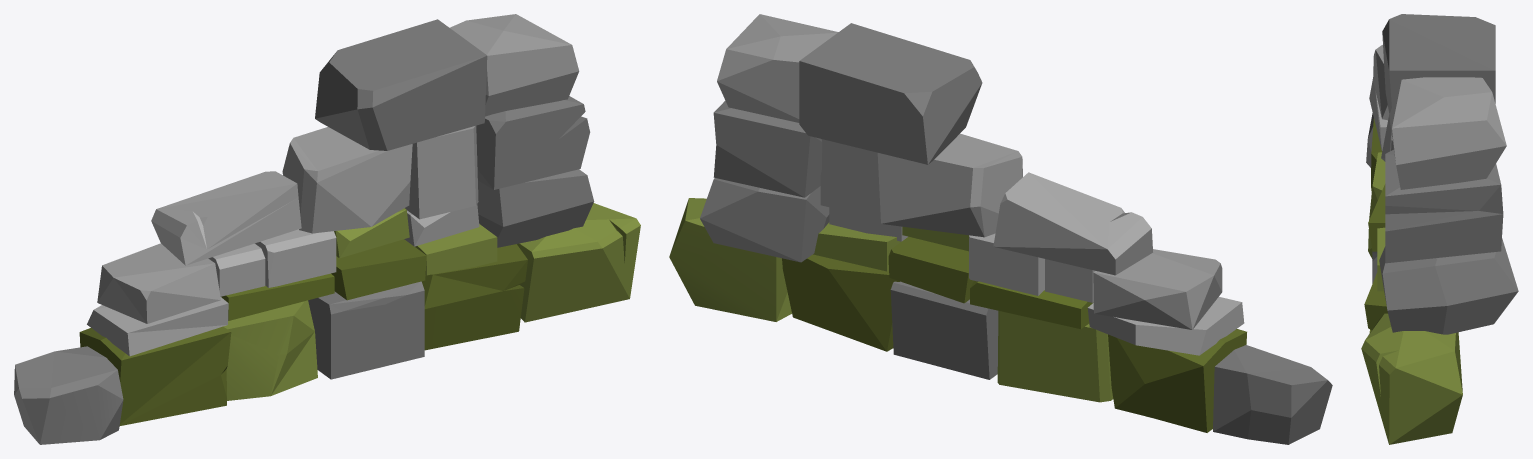
Rendered from EA03_Fence_Cobble_01a.fbx.
3 renders of one model, left to right at view 1: azimuth 30°, elevation 25°; view 2: azimuth 150°, elevation 25°; view 3: azimuth 270°, elevation 25°, orthographic. The views are drawn at different scales.
Parts seen in each view (by area): view 1: EA03_Fence_Cobble_01a_LOD0; view 2: EA03_Fence_Cobble_01a_LOD0; view 3: EA03_Fence_Cobble_01a_LOD0.
Boxes of the visible parts, x1,y1,x2,y2 form: EA03_Fence_Cobble_01a_LOD0: (14,14,640,444); EA03_Fence_Cobble_01a_LOD0: (669,14,1332,444); EA03_Fence_Cobble_01a_LOD0: (1361,14,1518,444).
Size of what is drawn, in the model's own units: 3.79 by 1.64 by 0.7795.
